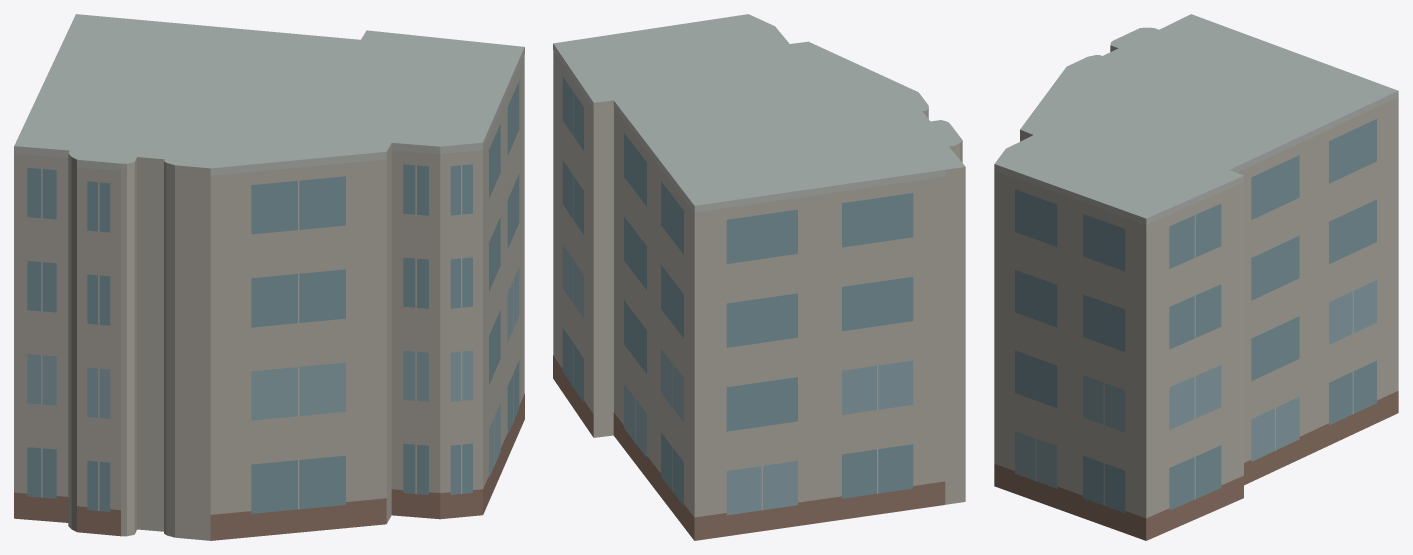
Rendered from survey-upis-32527173.glb.
3 views of the same model, side by side, from view 1: azimuth 30°, elevation 25°; view 2: azimuth 150°, elevation 25°; view 3: azimuth 270°, elevation 25° (orthographic). The views are drawn at different scales.
Visible parts, largest first — view 1: survey-upis-32527173.tmp; view 2: survey-upis-32527173.tmp; view 3: survey-upis-32527173.tmp.
Boxes of the visible parts, x1,y1,x2,y2 form: survey-upis-32527173.tmp: (14, 14, 524, 540); survey-upis-32527173.tmp: (553, 14, 965, 540); survey-upis-32527173.tmp: (994, 14, 1398, 540).
Size of the model in its own units: 16.62 by 12.2 by 13.87.
